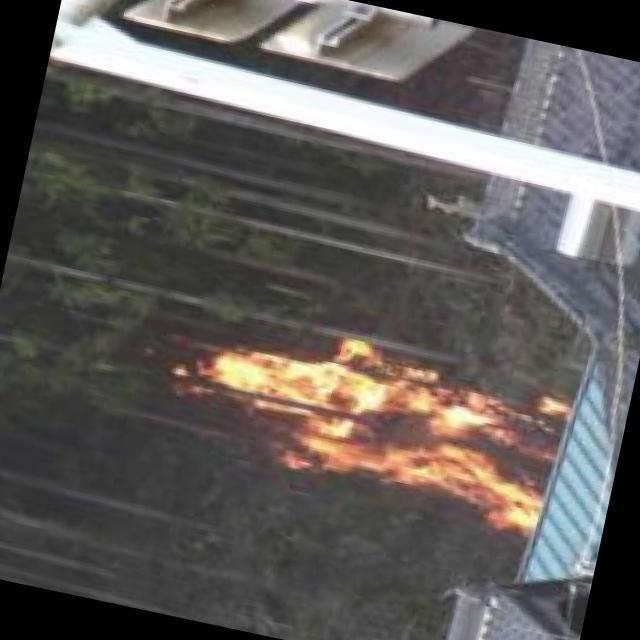Fire: (175, 301, 580, 535)
